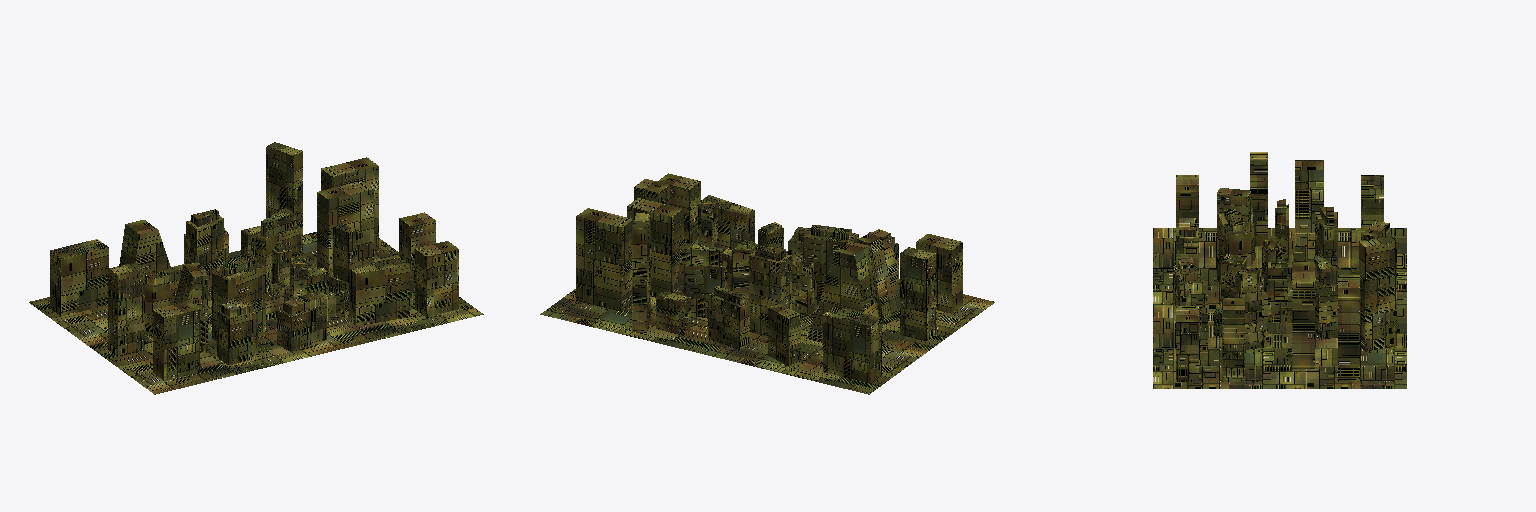
3 views of the same model, side by side, from view 1: azimuth 30°, elevation 25°; view 2: azimuth 150°, elevation 25°; view 3: azimuth 270°, elevation 25° (orthographic).
Visible parts, largest first — view 1: Plane; view 2: Plane; view 3: Plane.
Boxes of the visible parts, box(x1,y1,x2,y2) form: Plane: box(29, 142, 483, 394); Plane: box(540, 173, 994, 394); Plane: box(1153, 152, 1406, 388).
Size of the model in its own units: 30 by 9.11 by 20.
Materials: 1 (1 with a texture image).